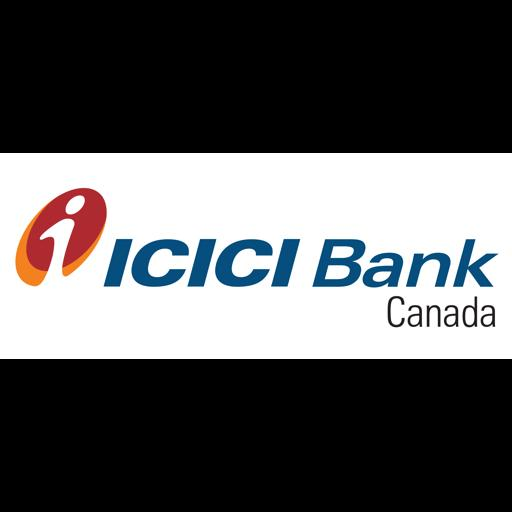ICICI Bank Limited: (0, 153, 512, 359)
